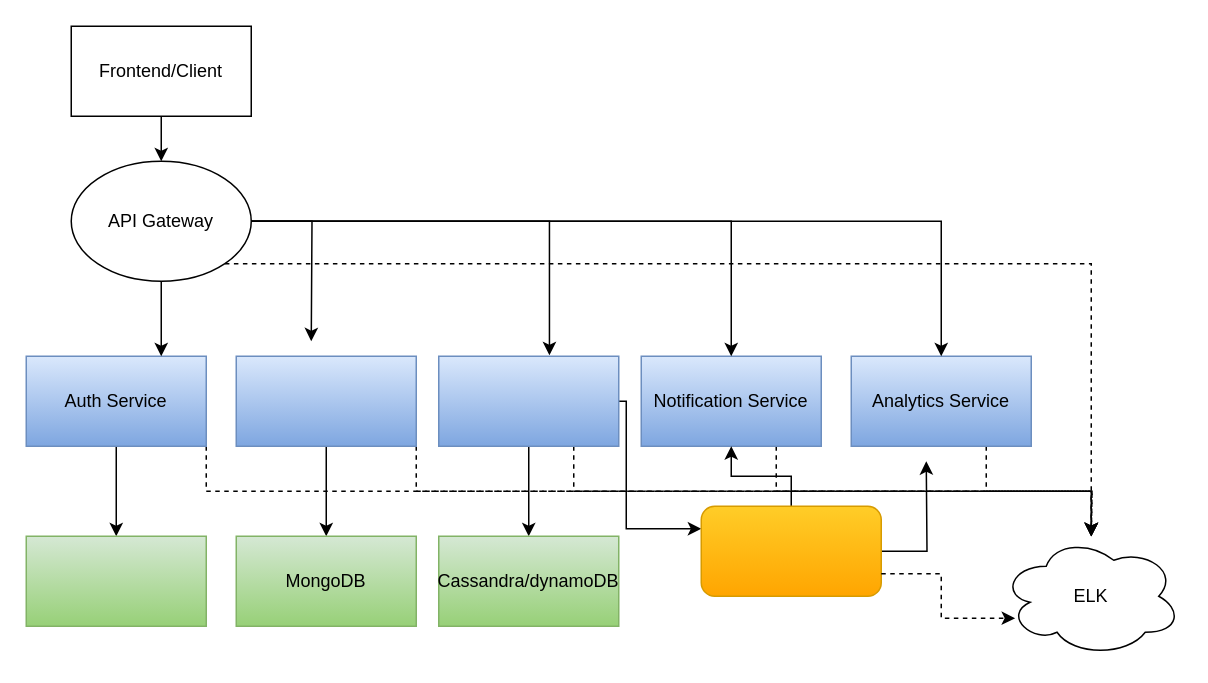
This 1208x683 diagram has some shape labels left out. Each missing label, with the box of its shape:
Event Service: (235, 355, 416, 446)
Kafka: (700, 505, 881, 596)
My SQL: (25, 535, 206, 626)
Registration Service: (437, 355, 619, 446)
